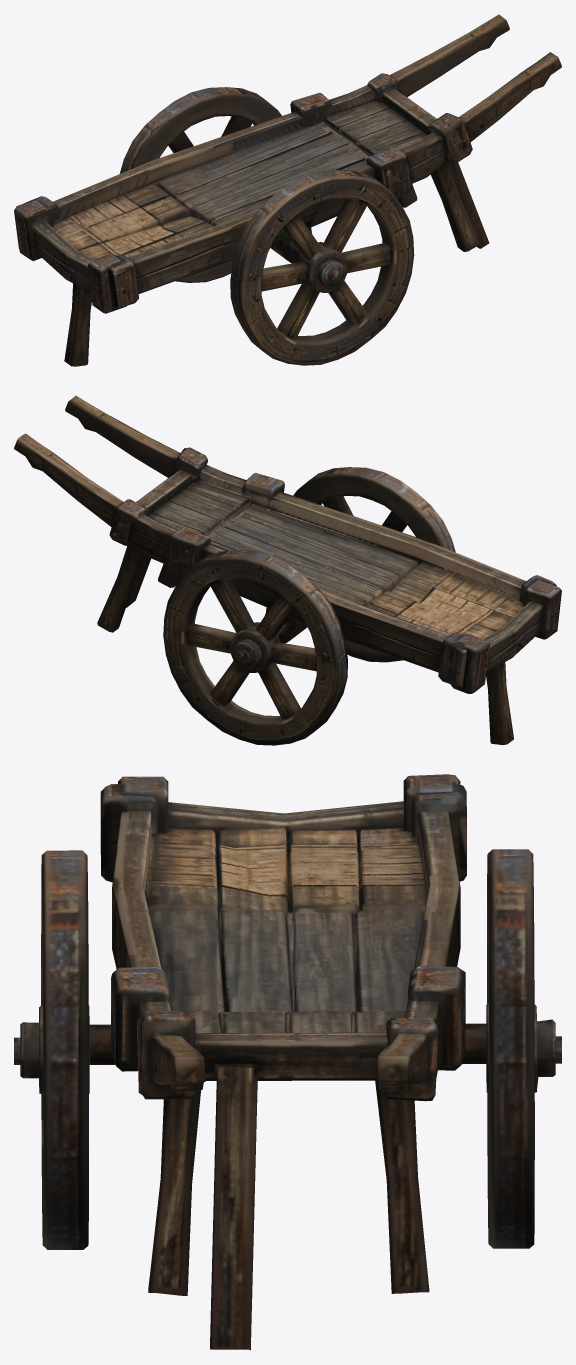
Rendered from act1_kit_v1_hand_cart.glb.
3 views of the same model, one above another, from view 1: azimuth 30°, elevation 25°; view 2: azimuth 150°, elevation 25°; view 3: azimuth 270°, elevation 25° (orthographic). The views are drawn at different scales.
Visible parts, largest first — view 1: act1_kit_v1_hand_cart; view 2: act1_kit_v1_hand_cart; view 3: act1_kit_v1_hand_cart.
Boxes of the visible parts, <box> form: act1_kit_v1_hand_cart: <box>14,14,561,366</box>; act1_kit_v1_hand_cart: <box>14,395,561,745</box>; act1_kit_v1_hand_cart: <box>14,774,561,1350</box>.
Bounding box in the file's own units: 1 × 0.4361 × 0.5048.
1 material, 1 textured.
